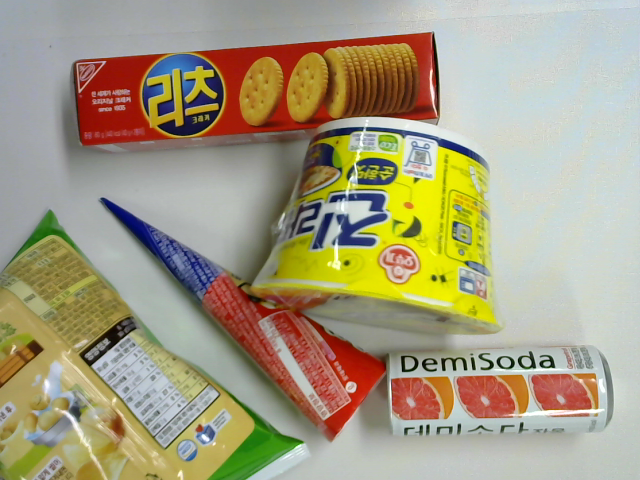Demisoda_Grapefruit_Can_250ml: (375, 344, 622, 436)
Jinlamyeon_Mild_Taste_Large_Cup: (245, 111, 512, 346)
Pocachip_Onion: (1, 201, 314, 479)
Ritz_Cracker: (67, 26, 456, 162)
World_Cone_Banila: (93, 189, 395, 446)
